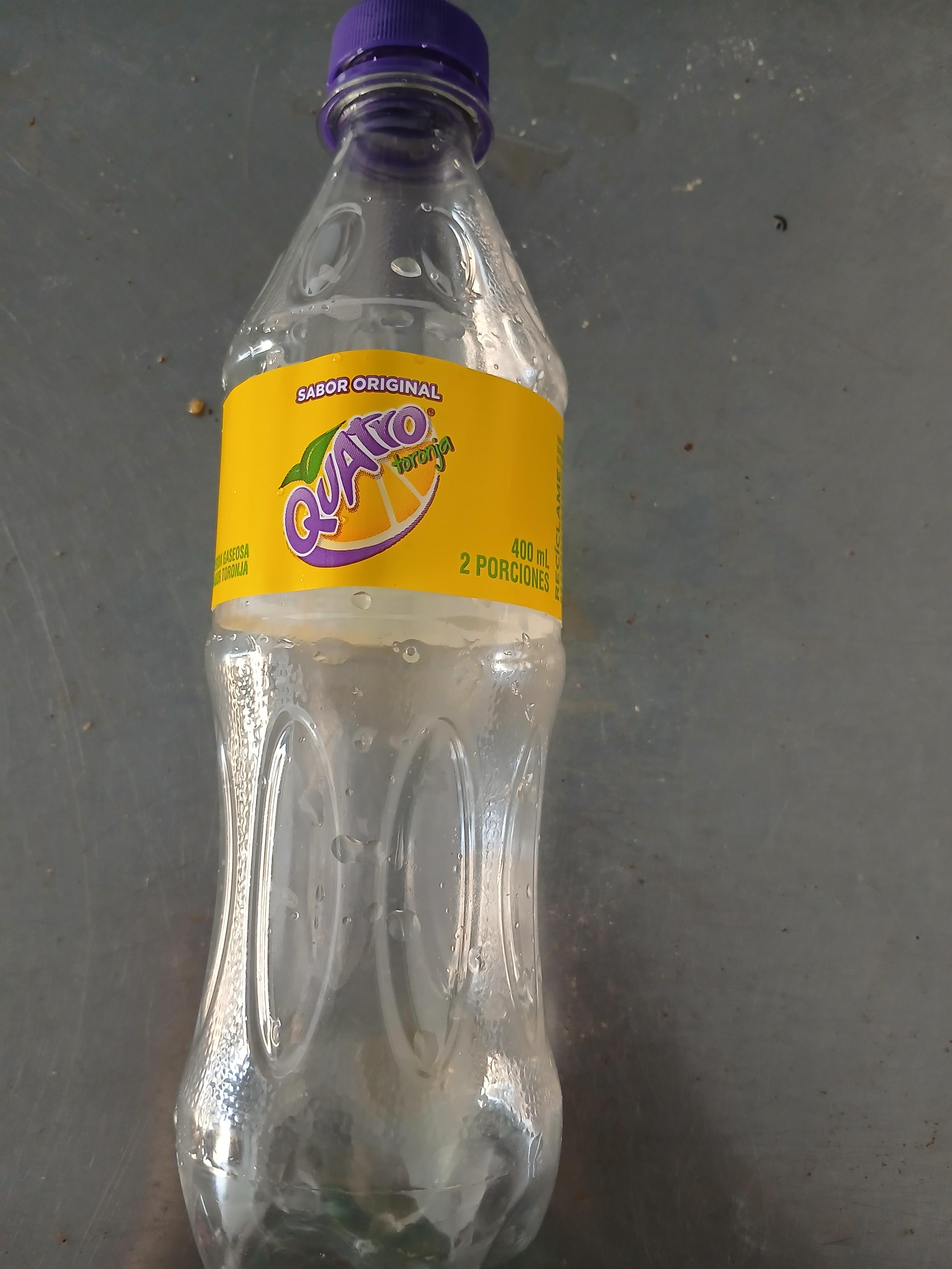Plastico: (173, 5, 567, 1269)
